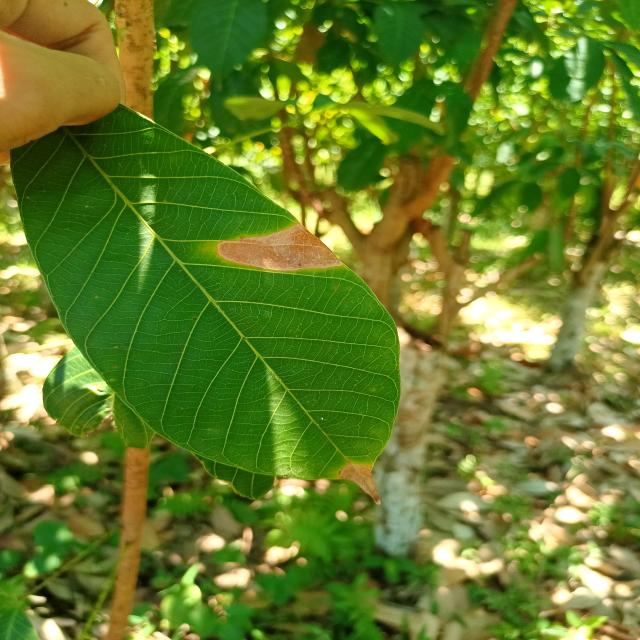Leaf-Blight: (218, 223, 343, 271), (340, 462, 381, 504)
